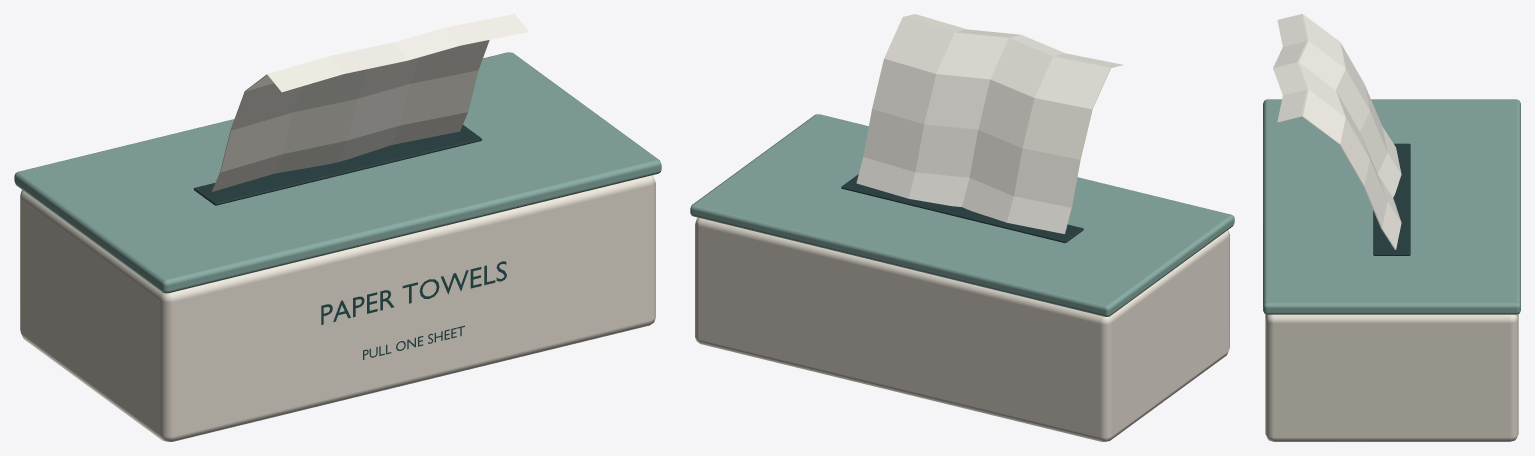
File: PaperTowels.fbx
3 renders of one model, left to right at view 1: azimuth 30°, elevation 25°; view 2: azimuth 150°, elevation 25°; view 3: azimuth 270°, elevation 25°, orthographic. The views are drawn at different scales.
Visible parts, largest first — view 1: PaperTowels_Carton, PaperTowels_Lid, PaperTowels_PulledSheet, PaperTowels_DispenseSlot, PaperTowels_LabelTitle; view 2: PaperTowels_Carton, PaperTowels_Lid, PaperTowels_PulledSheet, PaperTowels_DispenseSlot; view 3: PaperTowels_Lid, PaperTowels_Carton, PaperTowels_PulledSheet, PaperTowels_DispenseSlot.
Part boxes in pixels (x1,y1,x2,y2): PaperTowels_Carton: (20, 175, 655, 441); PaperTowels_Lid: (14, 52, 661, 293); PaperTowels_PulledSheet: (212, 14, 528, 191); PaperTowels_DispenseSlot: (194, 125, 482, 205); PaperTowels_LabelTitle: (321, 261, 506, 324); PaperTowels_Carton: (695, 217, 1229, 441); PaperTowels_Lid: (690, 114, 1234, 316); PaperTowels_PulledSheet: (856, 14, 1122, 233); PaperTowels_DispenseSlot: (841, 174, 1083, 242); PaperTowels_Lid: (1263, 99, 1520, 314); PaperTowels_Carton: (1265, 314, 1518, 441); PaperTowels_PulledSheet: (1273, 14, 1401, 249); PaperTowels_DispenseSlot: (1373, 143, 1410, 255).
Bounding box in the file's own units: 0.222 × 0.1405 × 0.117.
